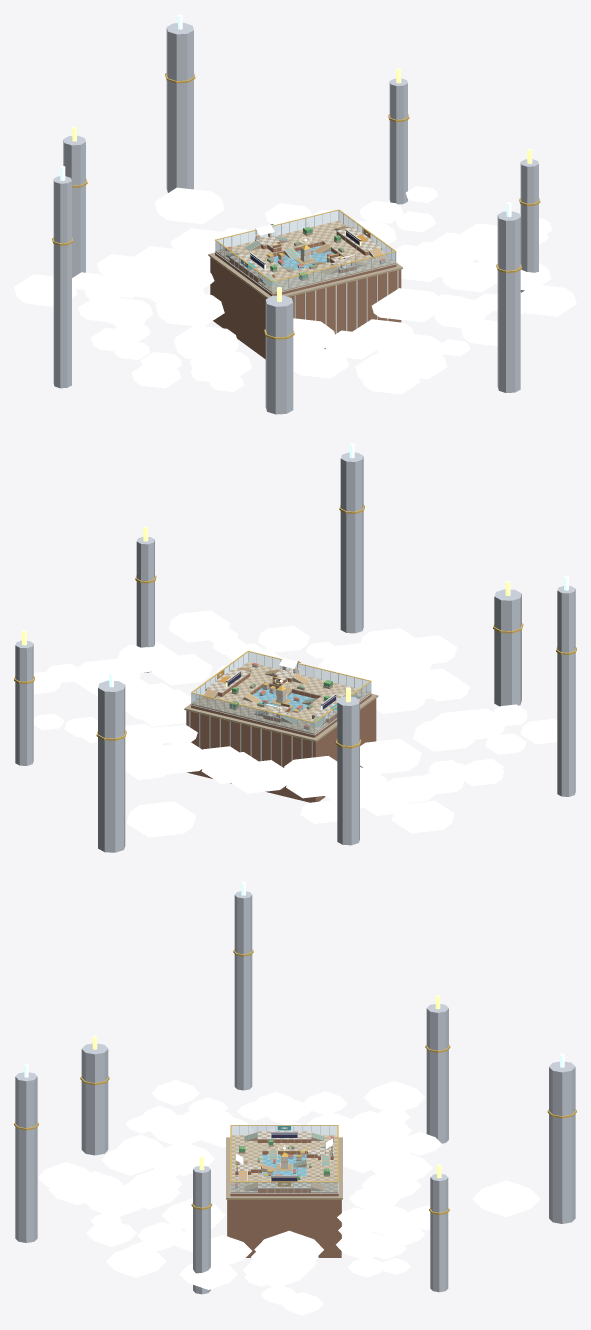
Rendered from zenith_visual.glb.
3 renders of one model, top to bottom at view 1: azimuth 30°, elevation 25°; view 2: azimuth 150°, elevation 25°; view 3: azimuth 270°, elevation 25°, orthographic. The views are drawn at different scales.
Parts seen in each view (by area): view 1: DETAIL_batch, DETAIL_glass, VIS_band_n_a, VIS_band_n_b; view 2: DETAIL_batch, DETAIL_glass, VIS_band_n_b, VIS_band_n_a; view 3: DETAIL_batch, DETAIL_glass, VIS_band_n_a, VIS_band_n_b.
Boxes of the visible parts, box(x1,y1,x2,y2) form: DETAIL_batch: box(14, 14, 576, 414); DETAIL_glass: box(215, 210, 395, 293); VIS_band_n_a: box(232, 225, 336, 256); VIS_band_n_b: box(275, 254, 379, 289); DETAIL_batch: box(14, 443, 576, 852); DETAIL_glass: box(191, 652, 370, 734); VIS_band_n_b: box(248, 666, 351, 698); VIS_band_n_a: box(208, 696, 311, 730); DETAIL_batch: box(14, 881, 576, 1315); DETAIL_glass: box(231, 1126, 337, 1192); VIS_band_n_a: box(306, 1143, 337, 1184); VIS_band_n_b: box(231, 1143, 261, 1184).
Bounding box in the file's own units: 257 × 111 × 252.
